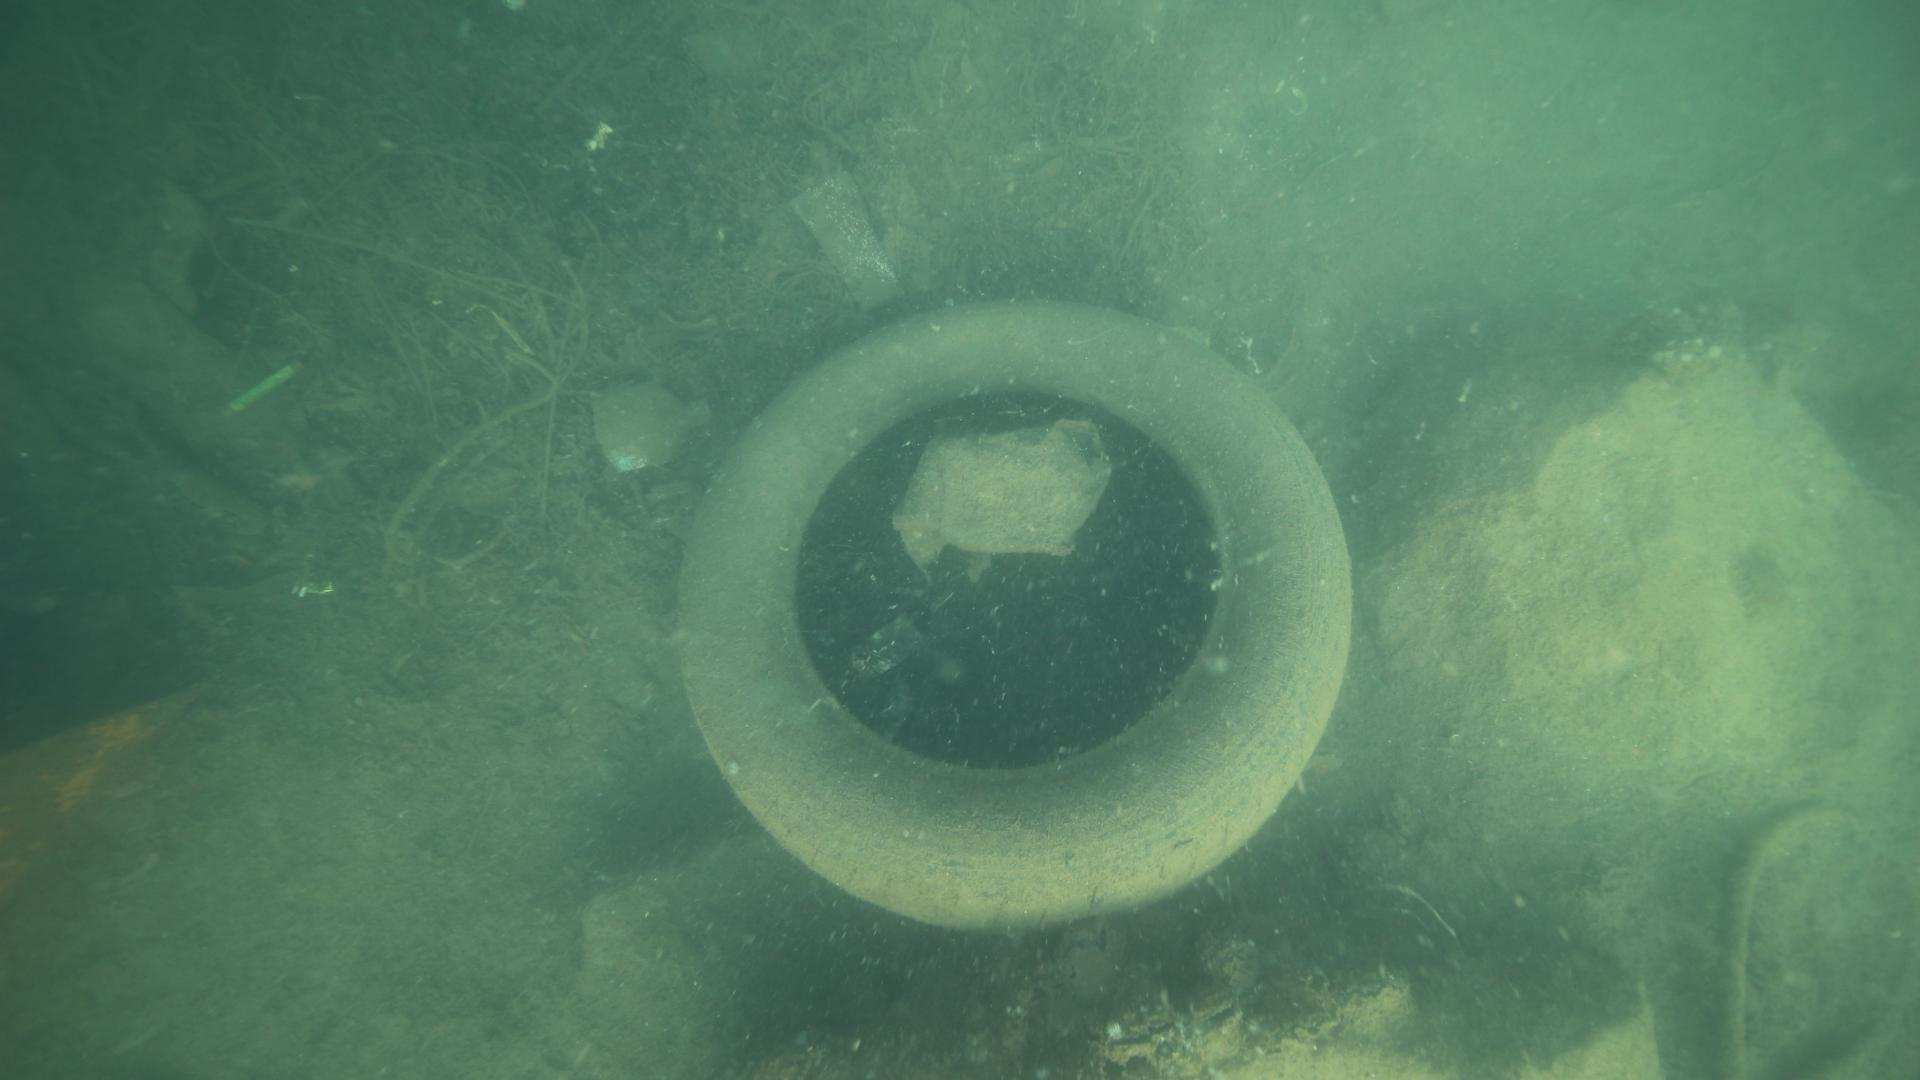tire: (670, 302, 1350, 920)
